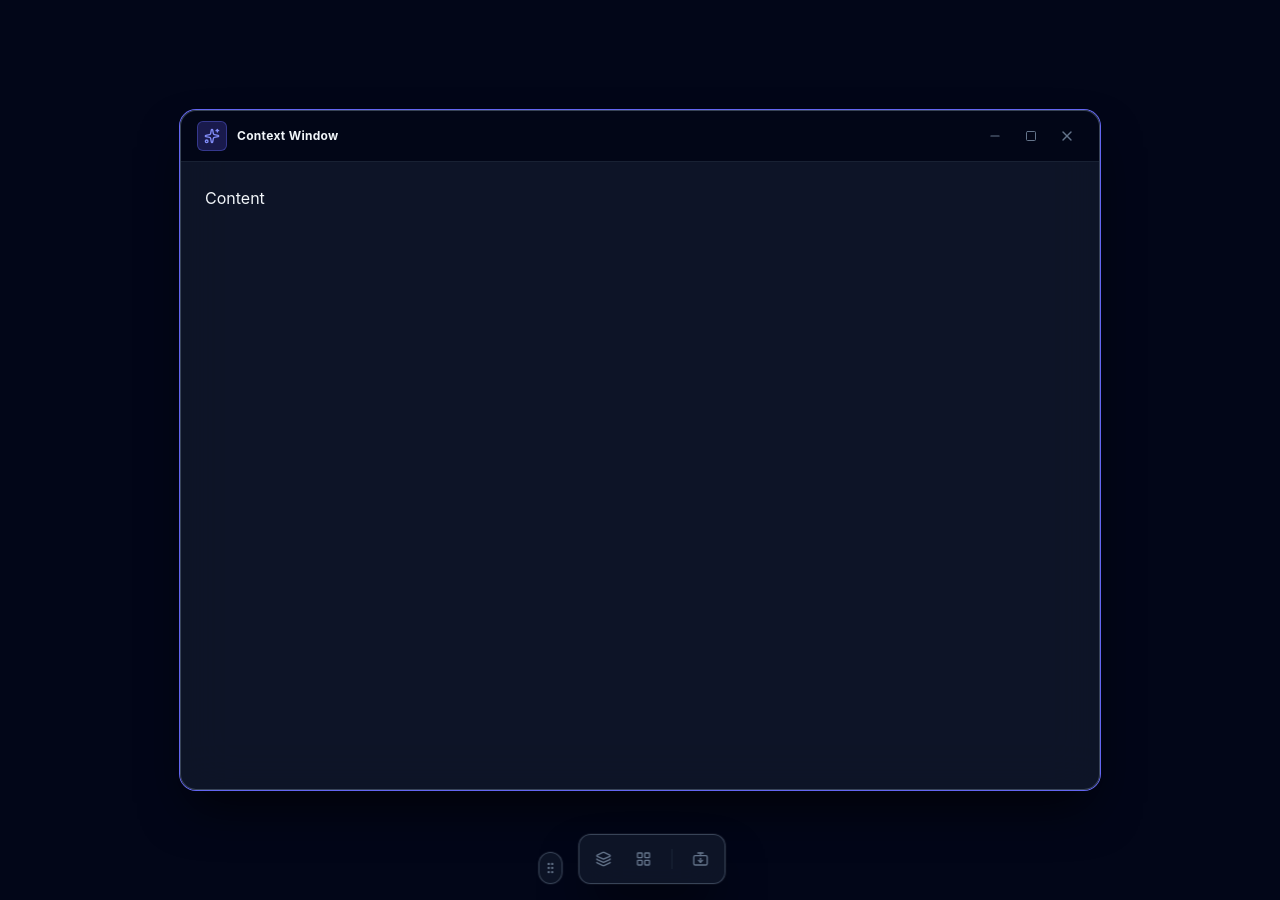
Win2xWindow Organism › opens titlebar context menu on right click and supports cascade/tile actions
Right click titlebar
Right-click the element showing "Context Window" at (640, 136), box [181,111,1099,162]
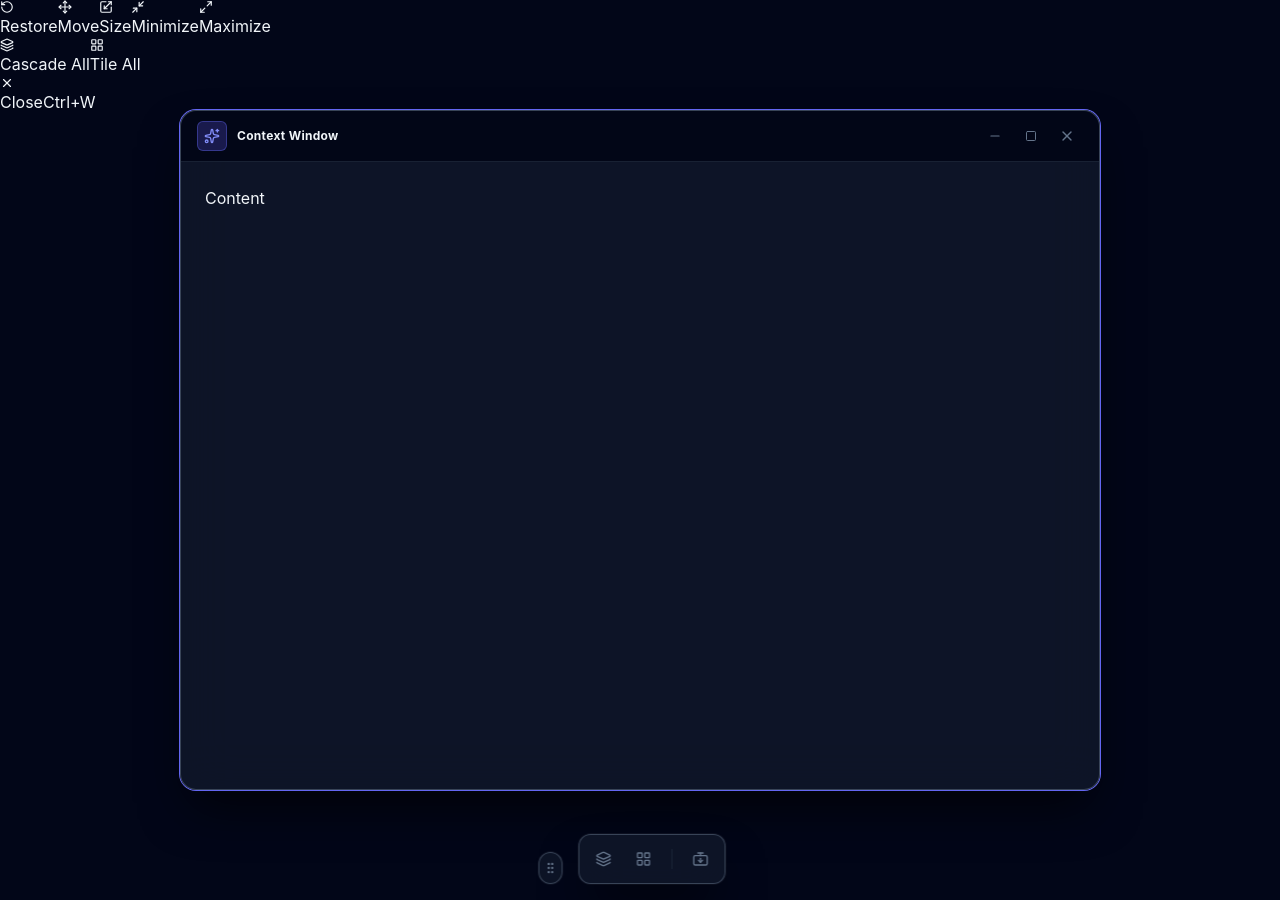
expect the text "Cascade All" is shown: met, box [0,54,90,74]
expect the text "Tile All" is shown: met, box [90,54,140,74]
